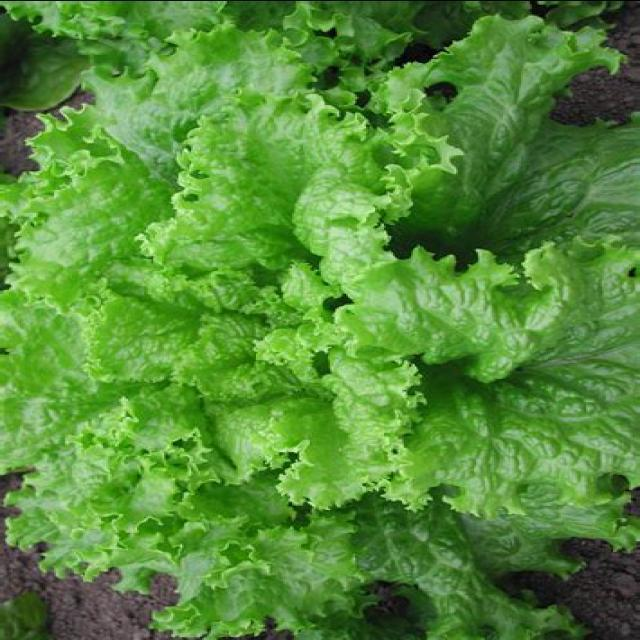healthy: (8, 57, 625, 601)
